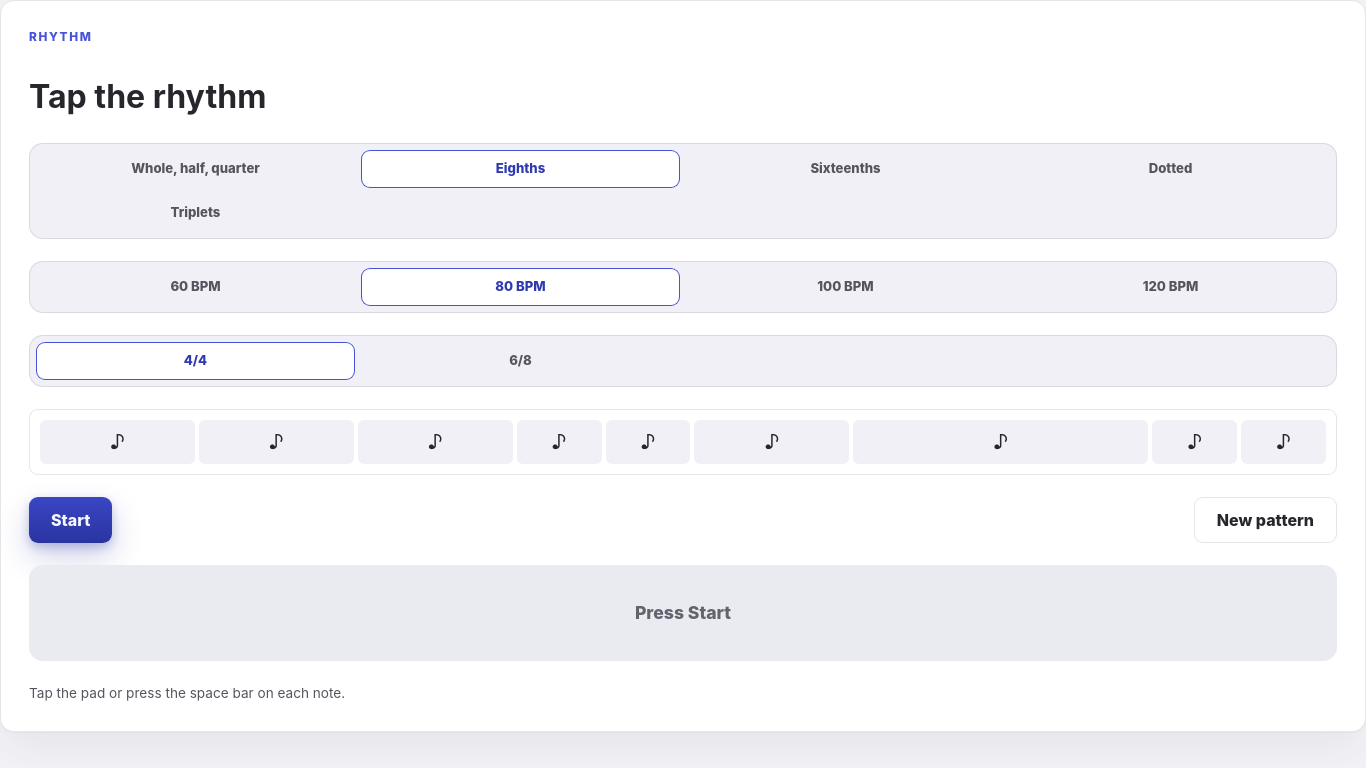
Test case: RhythmWorkspace › runs a round and reports the components rather than one number
Click the button "Start" at {"x": 71, "y": 520}, box left=29, top=497, right=112, bottom=543
Wait 3100 ms
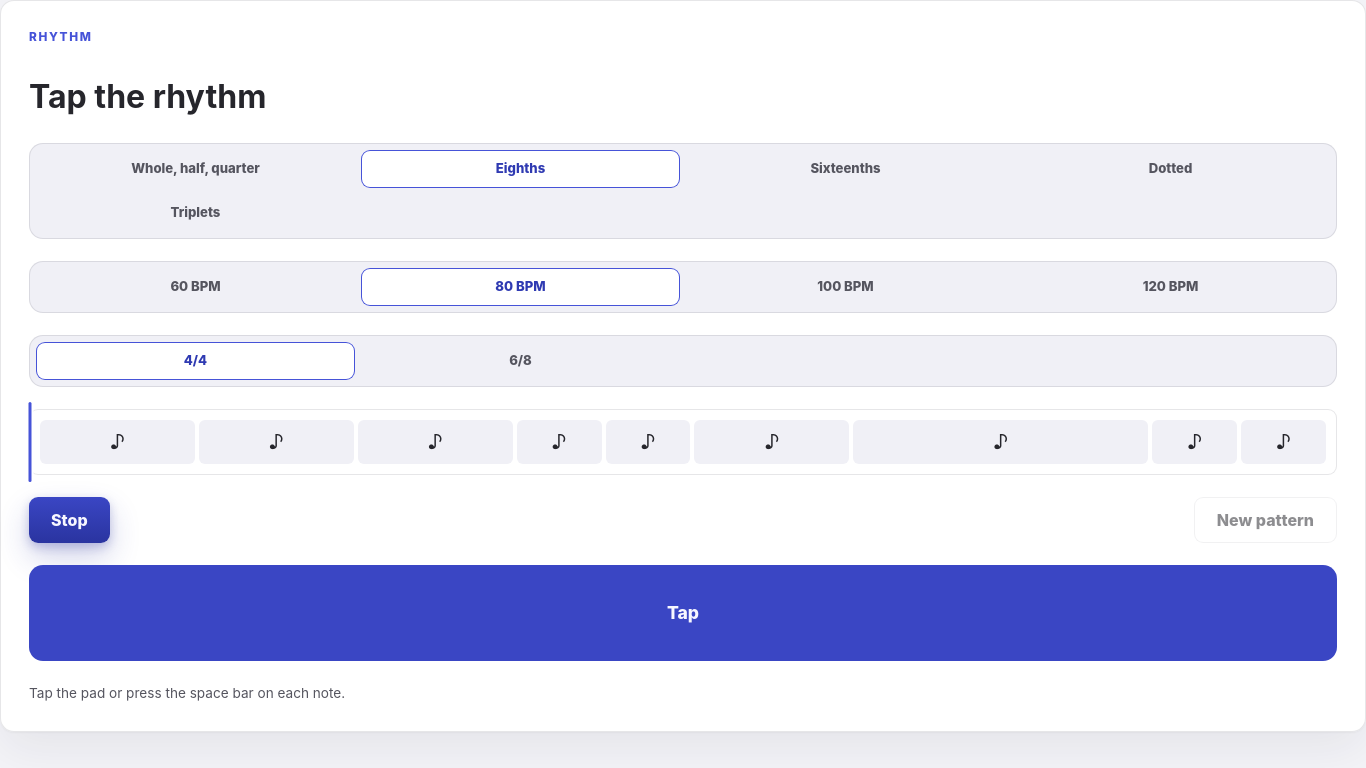
Now the button "Tap" is enabled
Now the button "New pattern" is disabled, box left=1194, top=497, right=1337, bottom=543
Click the button "Tap" at {"x": 683, "y": 613}, box left=29, top=565, right=1337, bottom=661
Wait 30000 ms
(page scrolled)
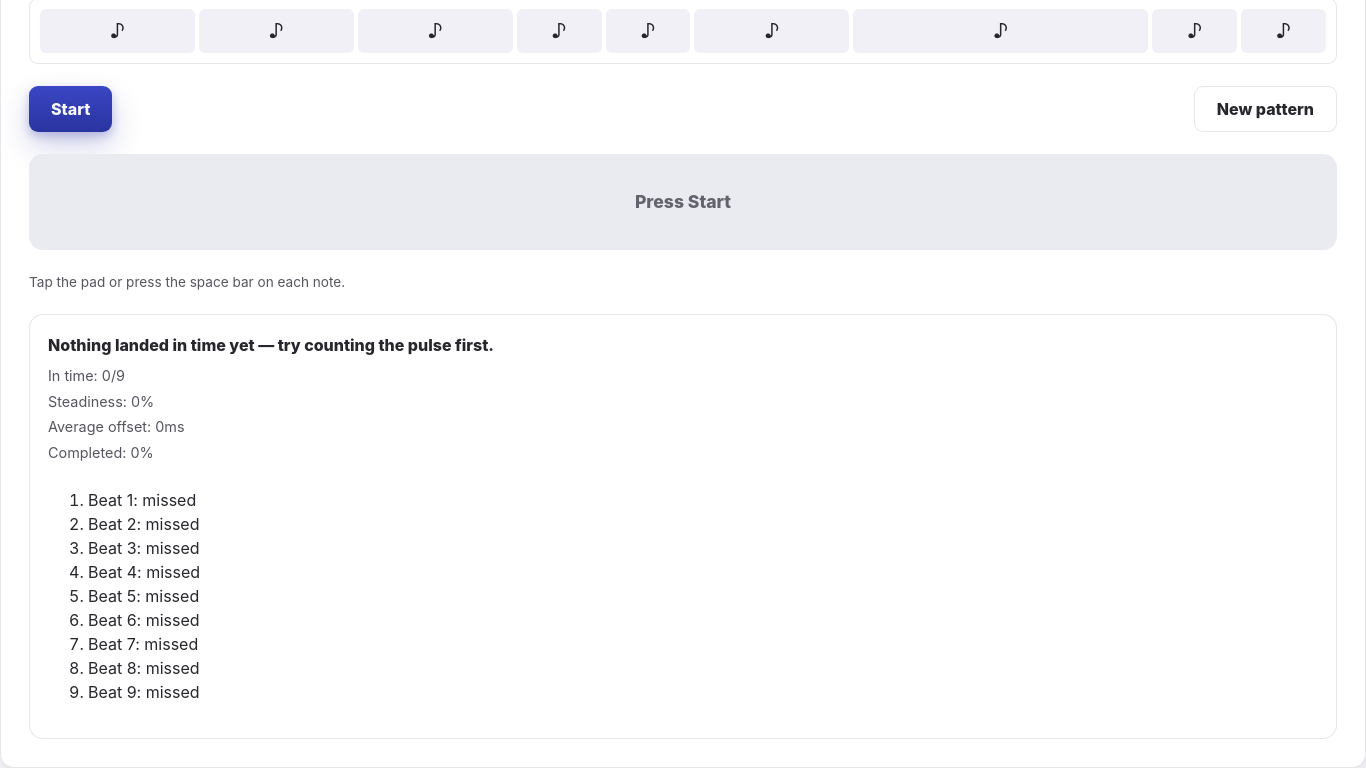
Now the message is shown, box left=29, top=314, right=1337, bottom=739
Now the message shows "In time:", box left=48, top=367, right=102, bottom=384
Now the message shows "Steadiness:", box left=48, top=393, right=131, bottom=410
